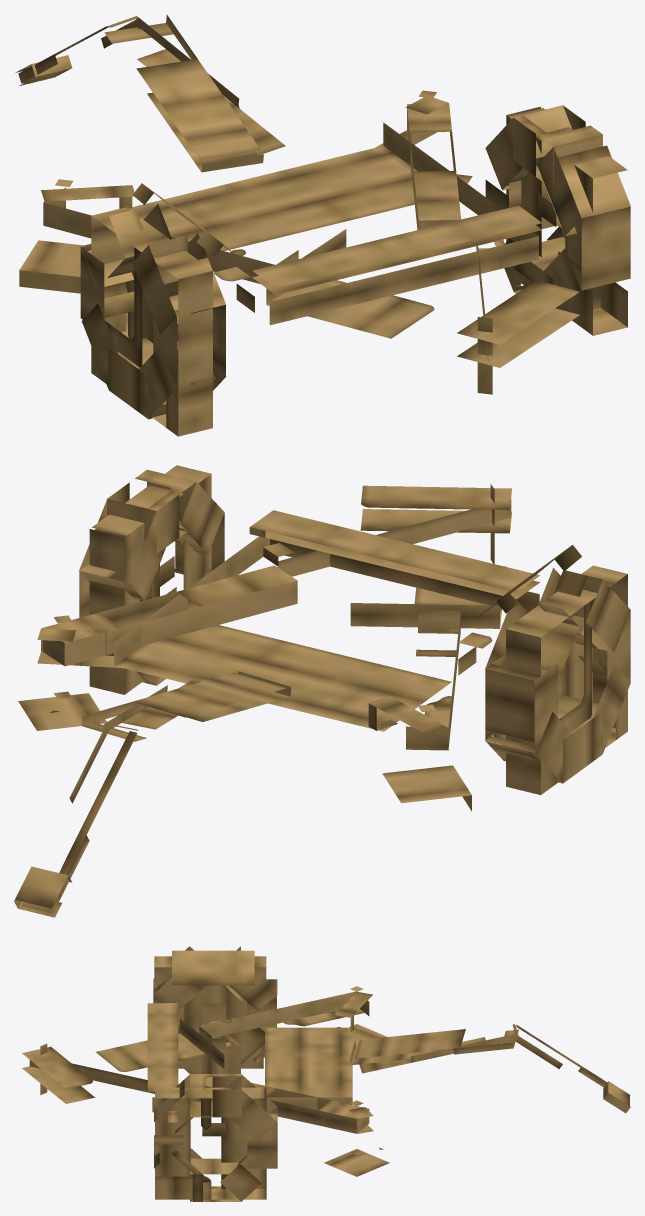
The picture shows the model from 3 angles, top to bottom: view 1: azimuth 30°, elevation 25°; view 2: azimuth 150°, elevation 25°; view 3: azimuth 270°, elevation 25°; orthographic projection. The views are drawn at different scales.
Parts seen in each view (by area): view 1: body; view 2: body; view 3: body.
Boxes of the visible parts, x1,y1,x2,y2 form: body: [15, 15, 630, 436]; body: [14, 465, 630, 917]; body: [22, 946, 630, 1201].
Bounding box in the file's own units: 2.15 × 0.8582 × 3.93.
